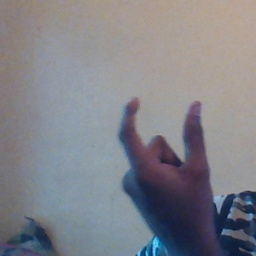U: (112, 96, 220, 232)
